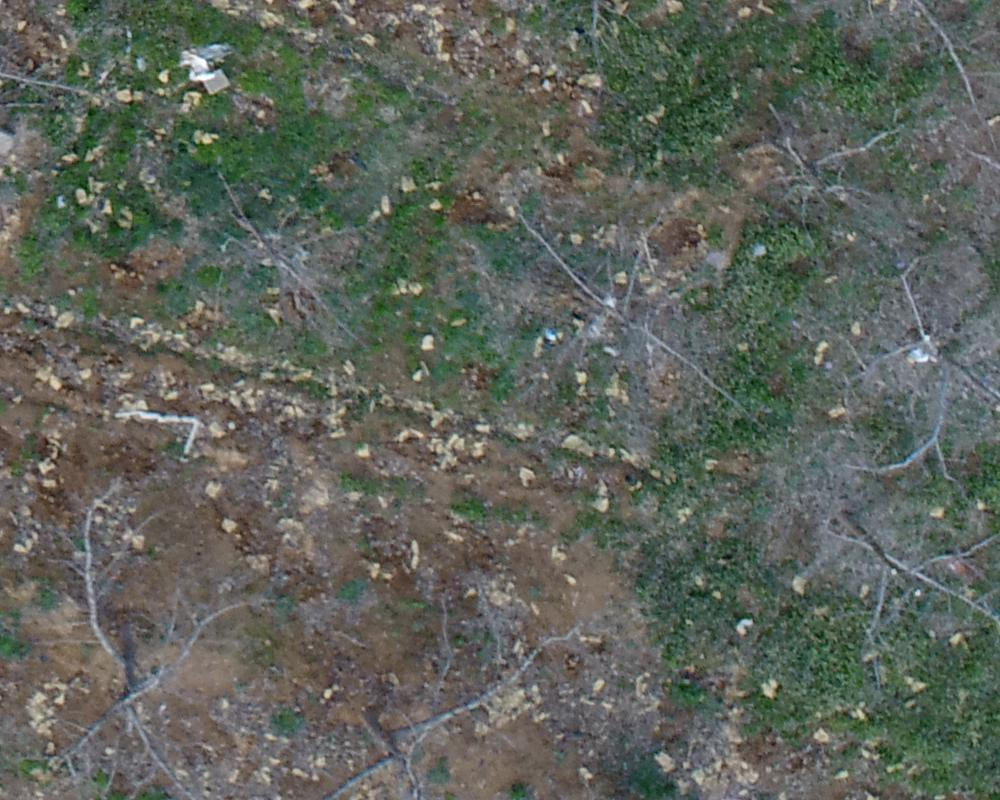apple: (54, 474, 272, 790), (494, 203, 766, 447), (156, 159, 380, 378), (294, 619, 566, 790), (835, 263, 990, 508), (801, 495, 990, 670), (716, 113, 916, 231)
